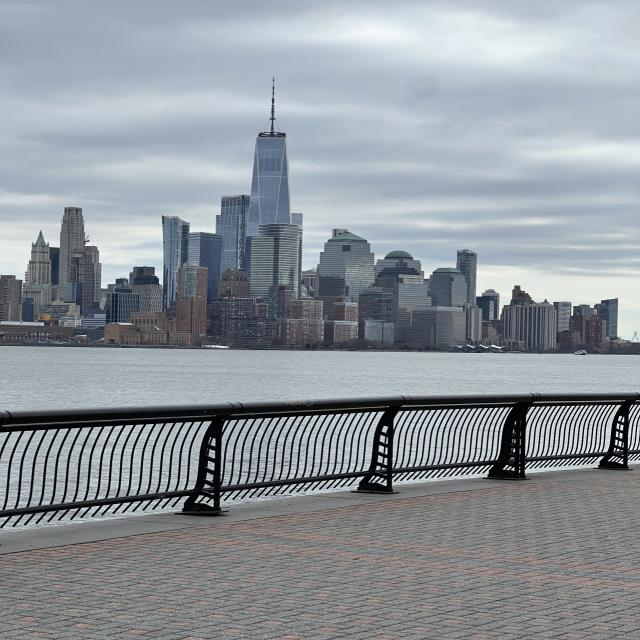WTC: (248, 79, 292, 225)
